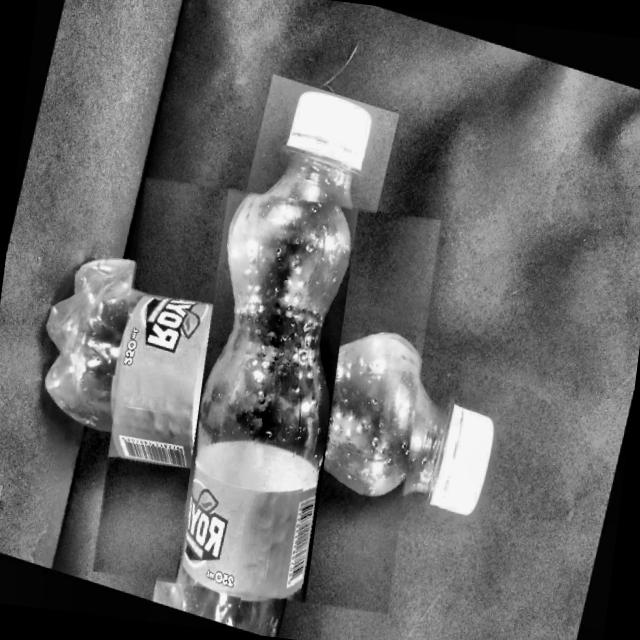Plastic-Bottle: (60, 136, 471, 640)
